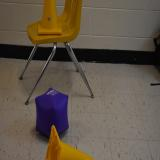cone: (45, 123, 93, 160), (38, 0, 62, 35)
cube: (35, 87, 69, 137)
